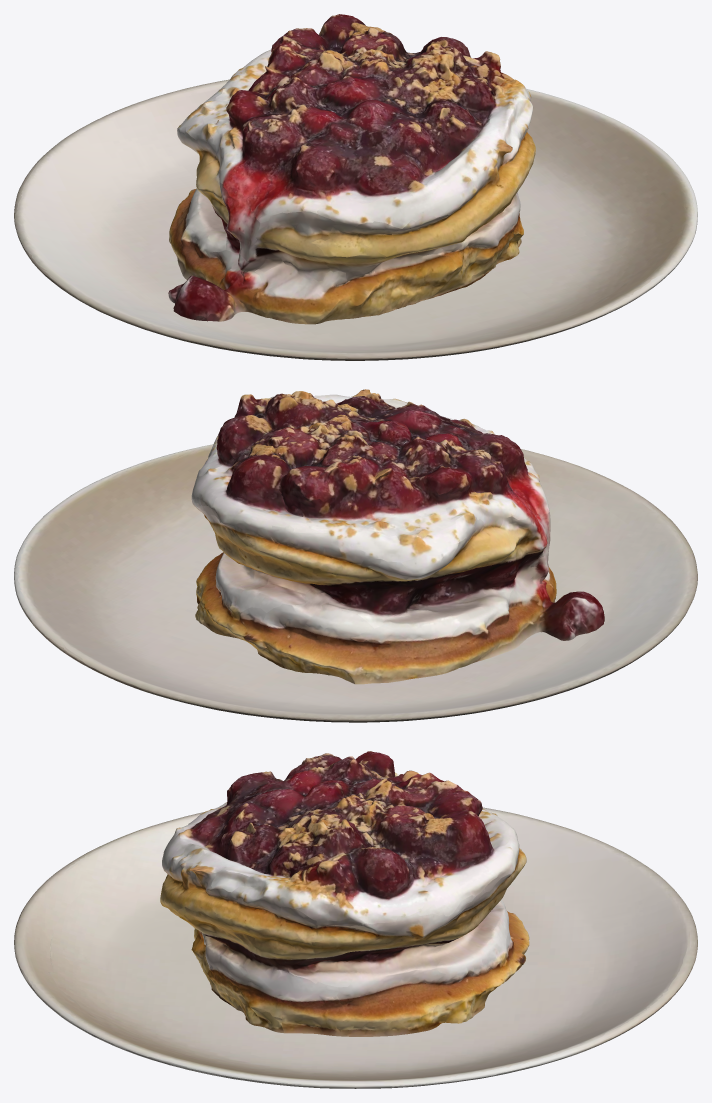
The model's file is Cherry.coconut.001.glb.
The picture shows the model from 3 angles, top to bottom: view 1: azimuth 30°, elevation 25°; view 2: azimuth 150°, elevation 25°; view 3: azimuth 270°, elevation 25°; orthographic projection.
Parts seen in each view (by area): view 1: /Root/Scenes/Scene/Object_38/Object_39/Submesh_0, /Root/Scenes/Scene/Object_38/Object_40/Object_41/Submesh_0; view 2: /Root/Scenes/Scene/Object_38/Object_39/Submesh_0, /Root/Scenes/Scene/Object_38/Object_40/Object_41/Submesh_0; view 3: /Root/Scenes/Scene/Object_38/Object_40/Object_41/Submesh_0, /Root/Scenes/Scene/Object_38/Object_39/Submesh_0.
Part boxes in pixels (x1,y1,x2,y2): /Root/Scenes/Scene/Object_38/Object_39/Submesh_0: [168, 14, 535, 324]; /Root/Scenes/Scene/Object_38/Object_40/Object_41/Submesh_0: [14, 79, 697, 360]; /Root/Scenes/Scene/Object_38/Object_39/Submesh_0: [191, 389, 604, 684]; /Root/Scenes/Scene/Object_38/Object_40/Object_41/Submesh_0: [14, 444, 697, 722]; /Root/Scenes/Scene/Object_38/Object_40/Object_41/Submesh_0: [14, 807, 697, 1088]; /Root/Scenes/Scene/Object_38/Object_39/Submesh_0: [160, 751, 529, 1036].
Size of the model in its own units: 0.3001 by 0.0924 by 0.3001.
2 materials, 2 textured.
